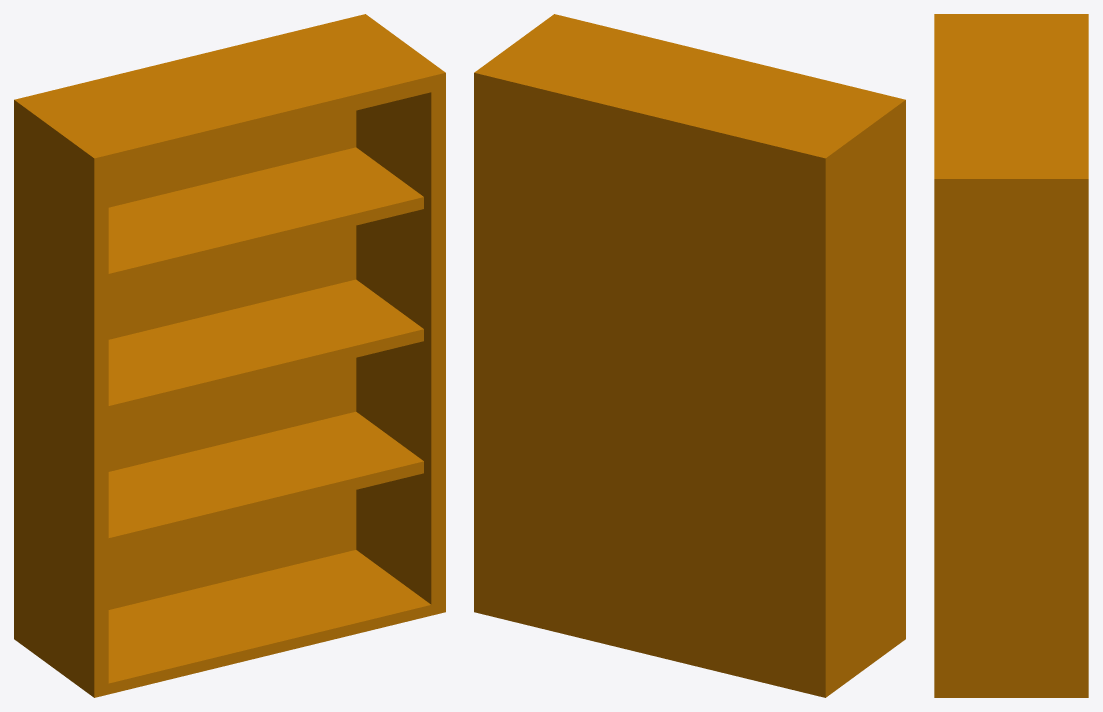
Rendered from Shelf_01.fbx.
3 views of the same model, side by side, from view 1: azimuth 30°, elevation 25°; view 2: azimuth 150°, elevation 25°; view 3: azimuth 270°, elevation 25° (orthographic). The views are drawn at different scales.
Visible parts, largest first — view 1: Shelf_01; view 2: Shelf_01; view 3: Shelf_01.
Boxes of the visible parts, box(x1,y1,x2,y2) form: Shelf_01: box(14, 14, 445, 697); Shelf_01: box(474, 14, 905, 697); Shelf_01: box(934, 14, 1088, 697).
Bounding box in the file's own units: 114 × 167 × 45.09.
